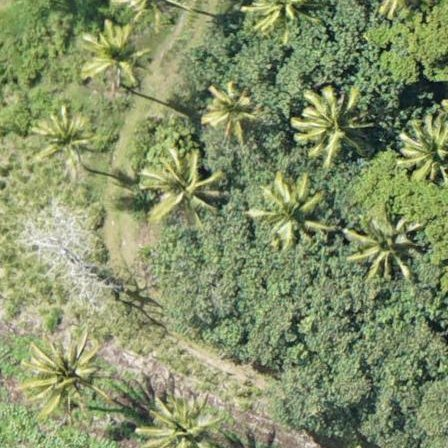palm_tree: (289, 89, 368, 165), (24, 333, 100, 411), (140, 149, 215, 219), (75, 25, 148, 88), (137, 395, 217, 448), (32, 107, 98, 171), (256, 177, 321, 241), (354, 213, 417, 273), (399, 113, 448, 188), (199, 81, 259, 137)
